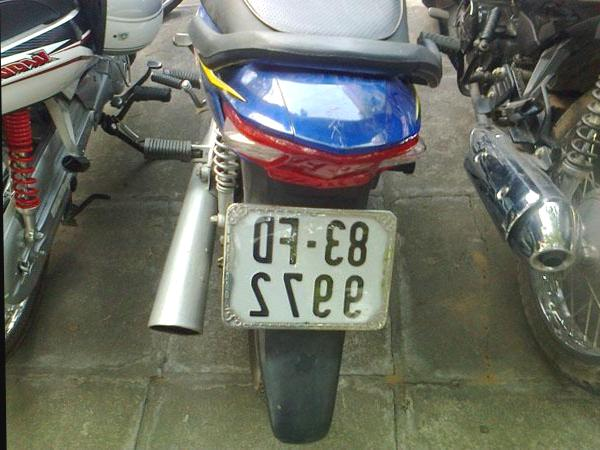License_Plate: (225, 213, 395, 331)
